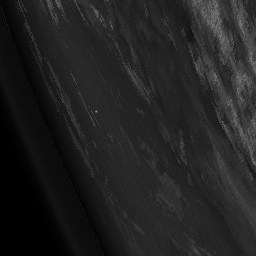Target: (93, 108, 98, 114)
